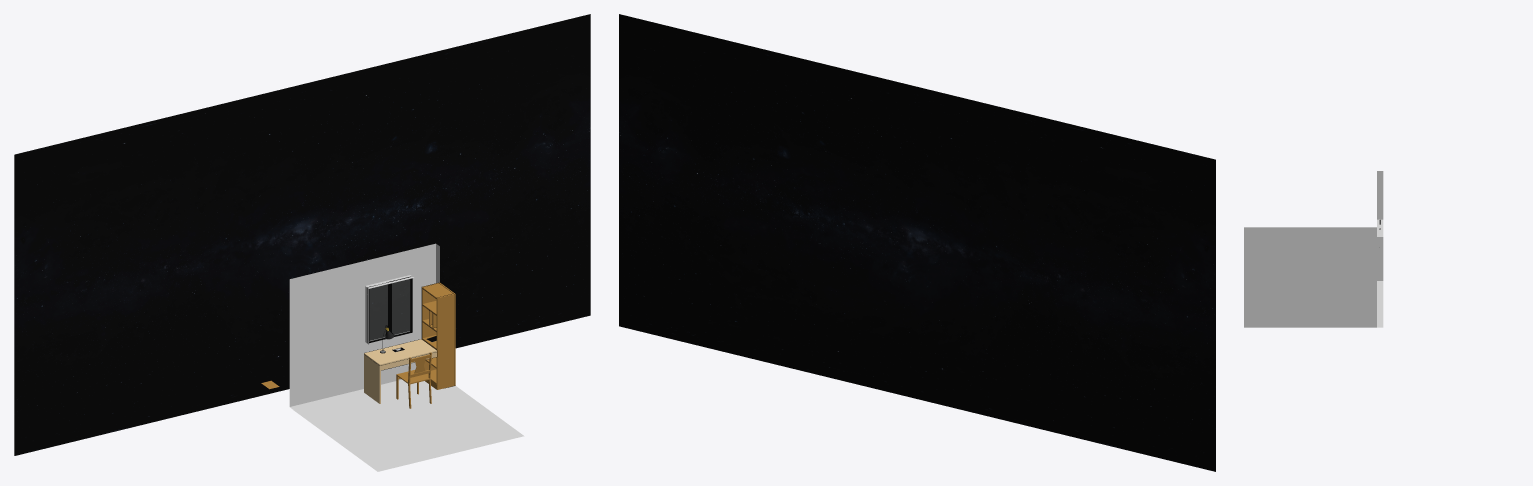
The model's file is EscenaMainLightTest.glb.
The picture shows the model from 3 angles, left to right: view 1: azimuth 30°, elevation 25°; view 2: azimuth 150°, elevation 25°; view 3: azimuth 270°, elevation 25°; orthographic projection. The views are drawn at different scales.
Visible parts, largest first — view 1: FondoUniverso, ParedFront, Piso, Plane.003, Plane, Cristal1, Cristal2, CubeSilla, Plane.002; view 2: FondoUniverso; view 3: ParedLat.001, ParedFront.
Part boxes in pixels (left/top/right/bottom): FondoUniverso: left=14, top=14, right=590, bottom=455; ParedFront: left=289, top=243, right=439, bottom=409; Piso: left=293, top=381, right=524, bottom=471; Plane.003: left=436, top=293, right=454, bottom=389; Plane: left=364, top=339, right=437, bottom=365; Cristal1: left=369, top=284, right=387, bottom=340; Cristal2: left=392, top=279, right=409, bottom=334; CubeSilla: left=396, top=352, right=431, bottom=408; Plane.002: left=364, top=355, right=380, bottom=403; FondoUniverso: left=619, top=14, right=1215, bottom=471; ParedLat.001: left=1244, top=227, right=1376, bottom=327; ParedFront: left=1377, top=171, right=1383, bottom=327.
Size of the model in its own units: 11.8 by 5.9 by 6.2.
Materials: 9 (2 with a texture image).
